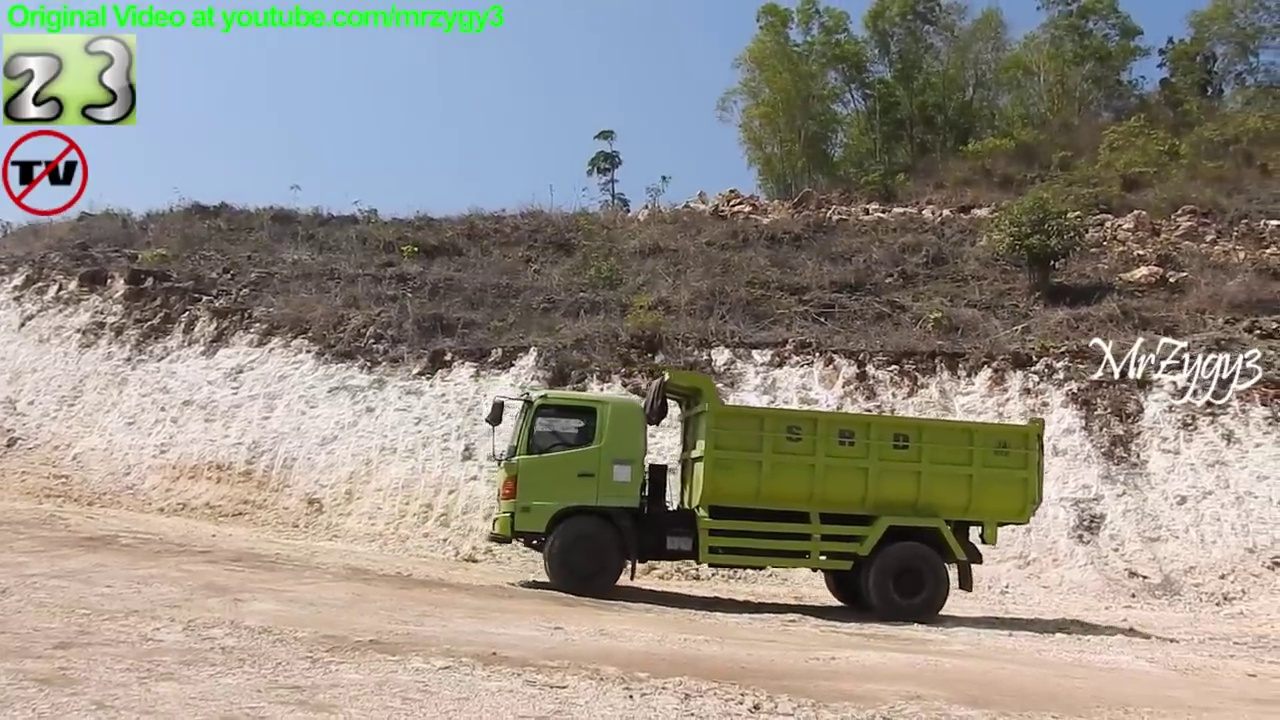truck: (478, 361, 1054, 628)
